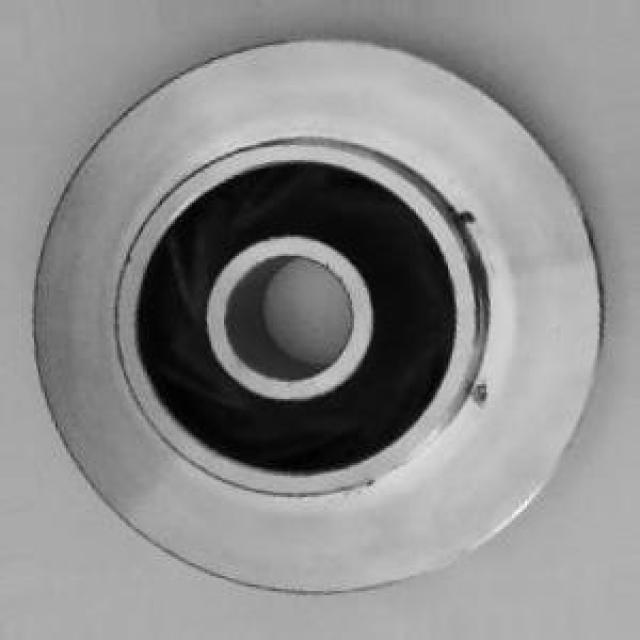Defect: (450, 204, 484, 228)
